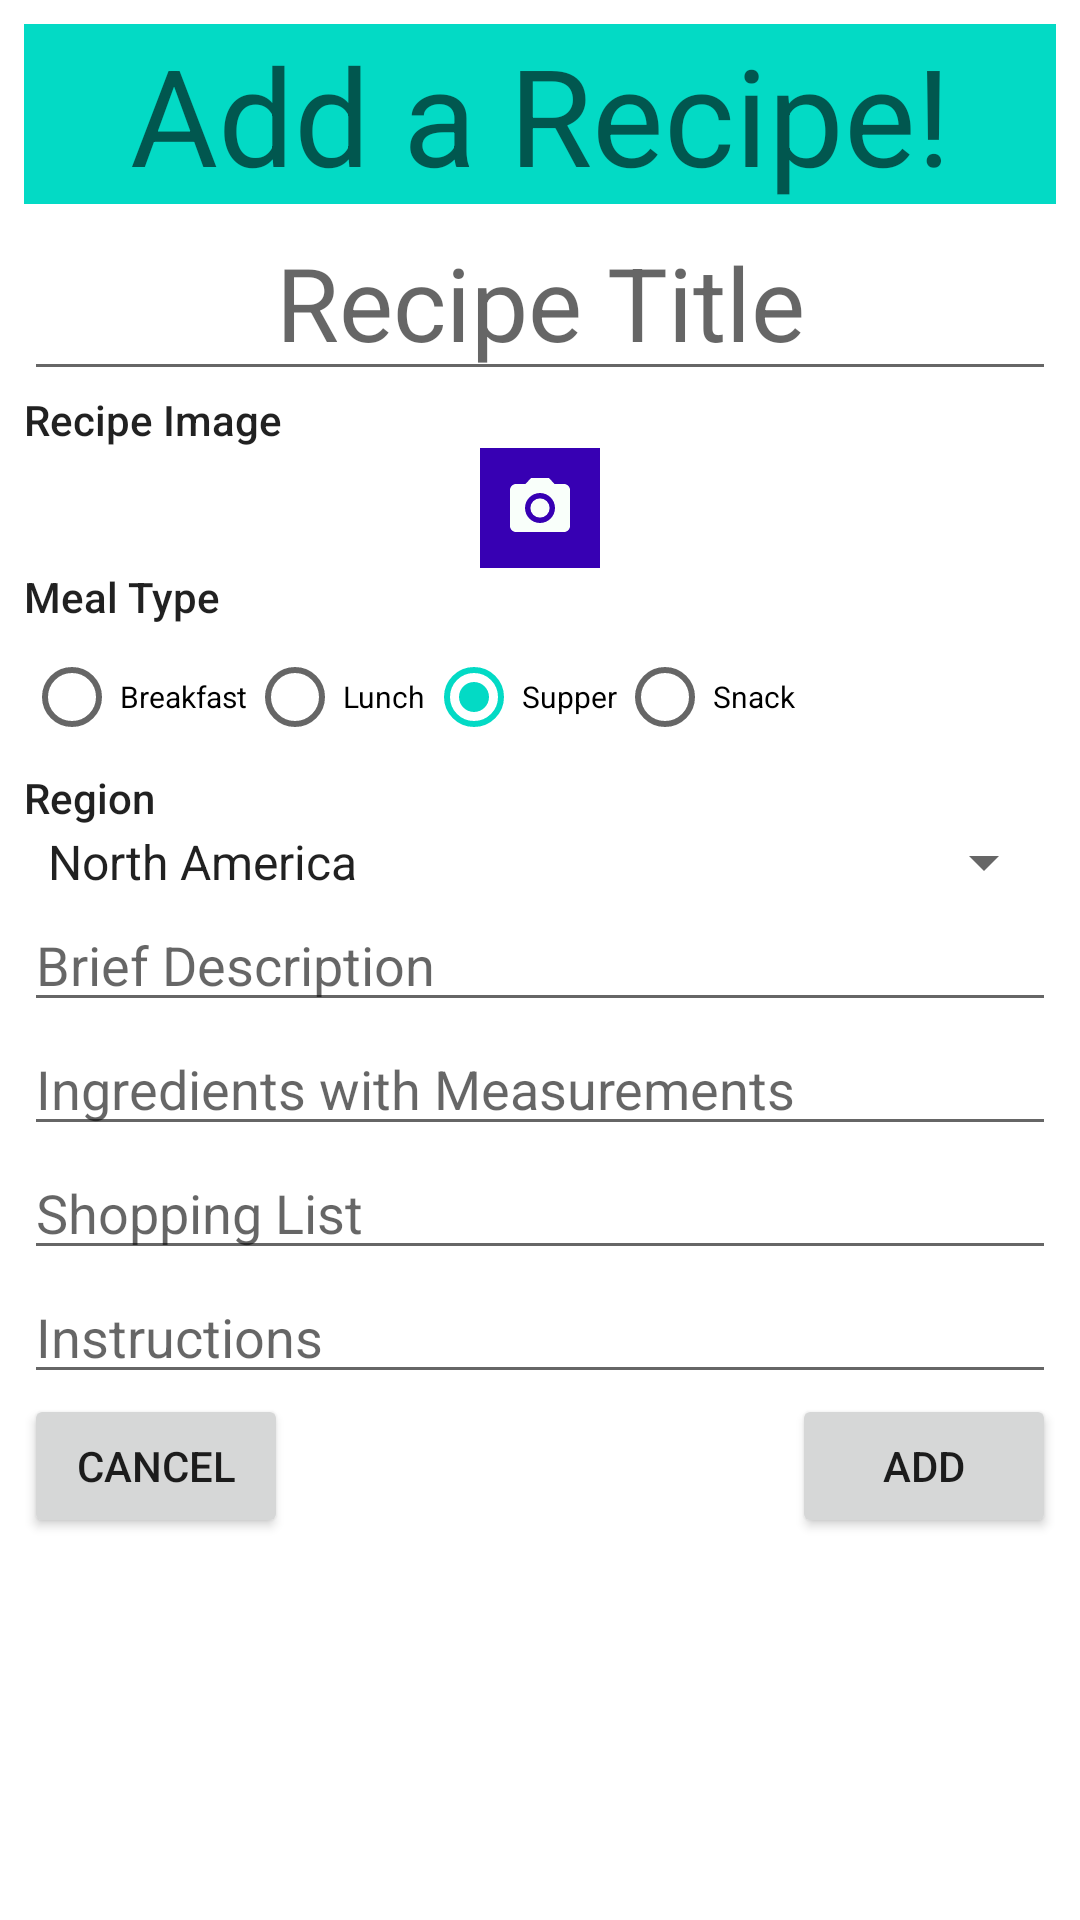

Icons on this 1080 x 1920 Android screen, each with the point to tap as point (x, y):
camera: point (540, 508)
